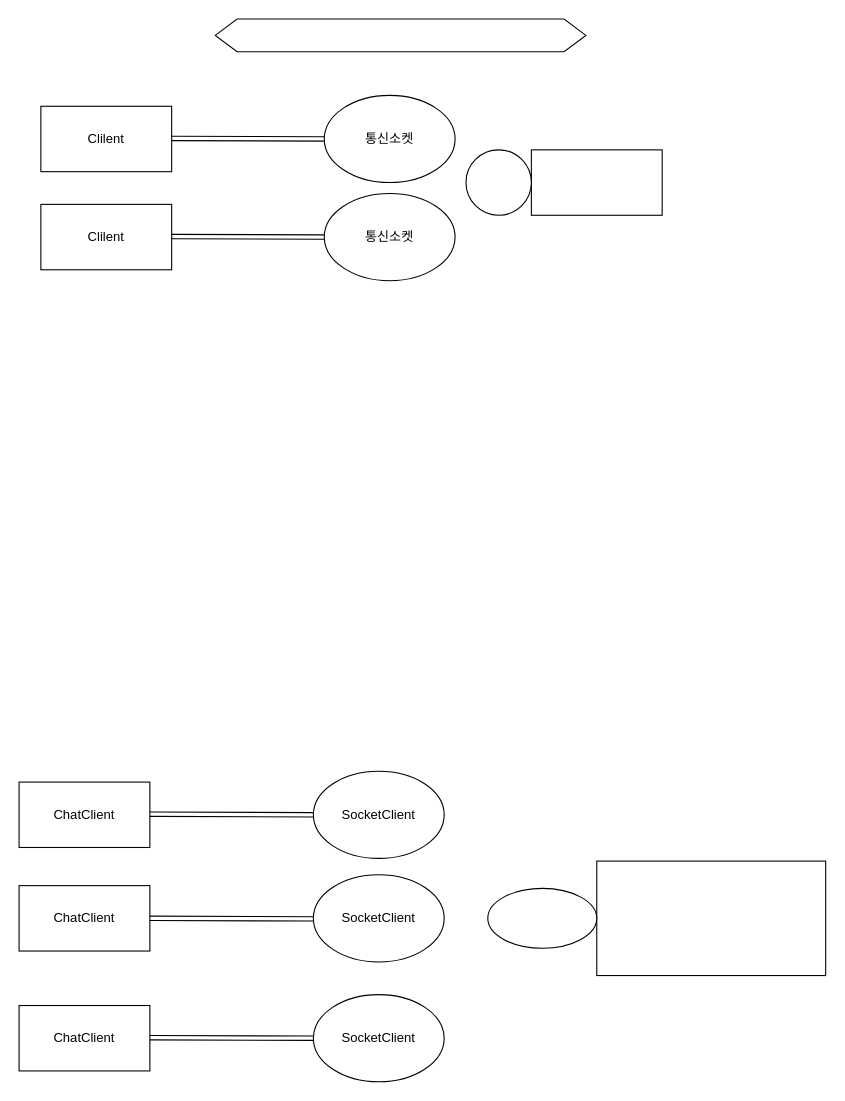
The diagram is 845 pixels wide and 1101 high, and some of its shapes have lost their labels. Each missing label, with the box of its shape:
ChatServer: (596, 860, 826, 976)
Server: (530, 149, 662, 215)
serverSocket (welcoming 소켓): (487, 887, 597, 948)
TCP 모델: (214, 18, 586, 52)
welcoming 소켓: (465, 149, 531, 215)
